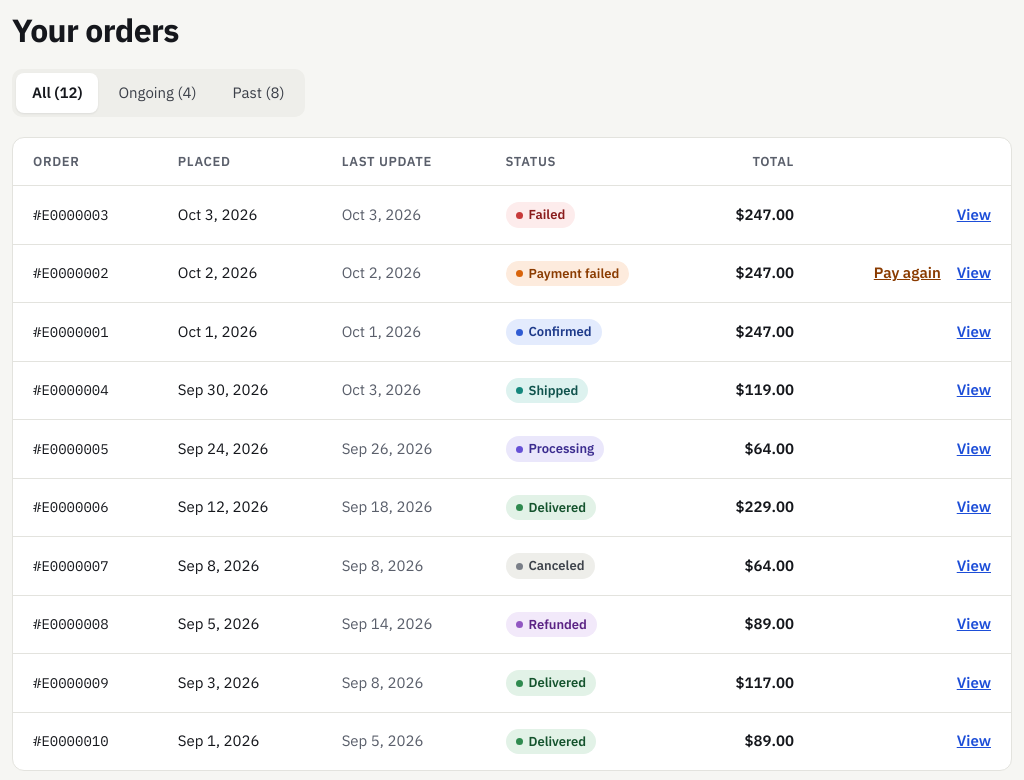
it: OrdersPage › filters by tab and keeps the tab in the URL
What coordinates should you click on to do the following:
click the tab "Ongoing (4)"
I would click on:
 (158, 93)
Its box is 102,73 -> 213,113.
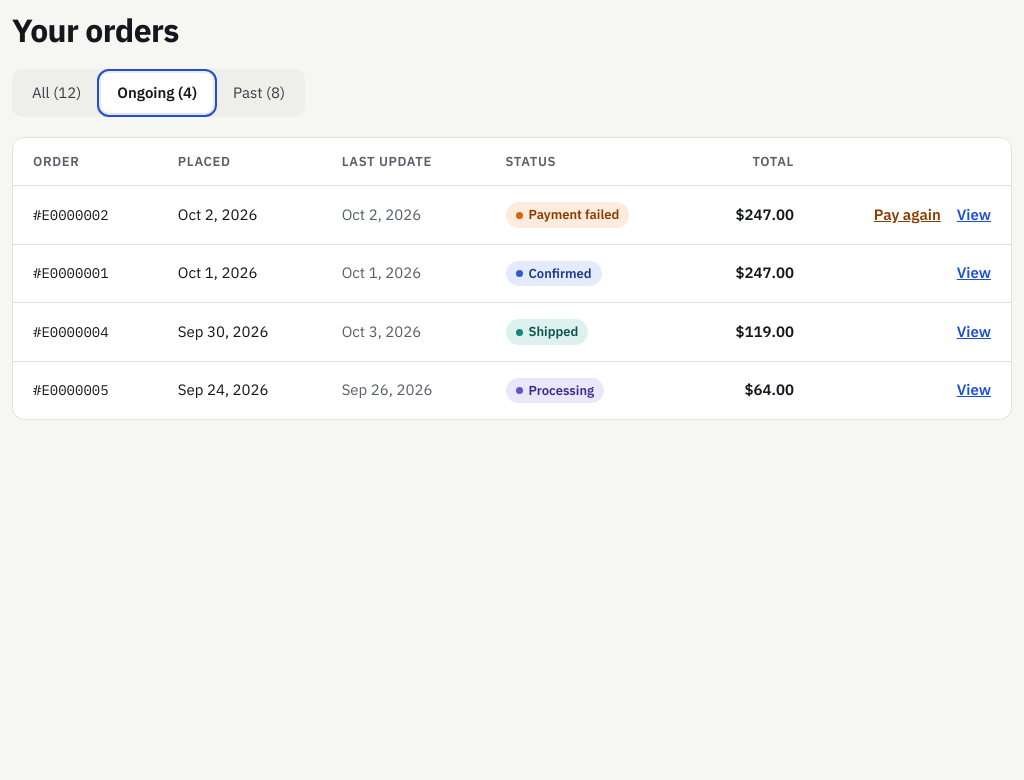
Now the text "Delivered" is gone
